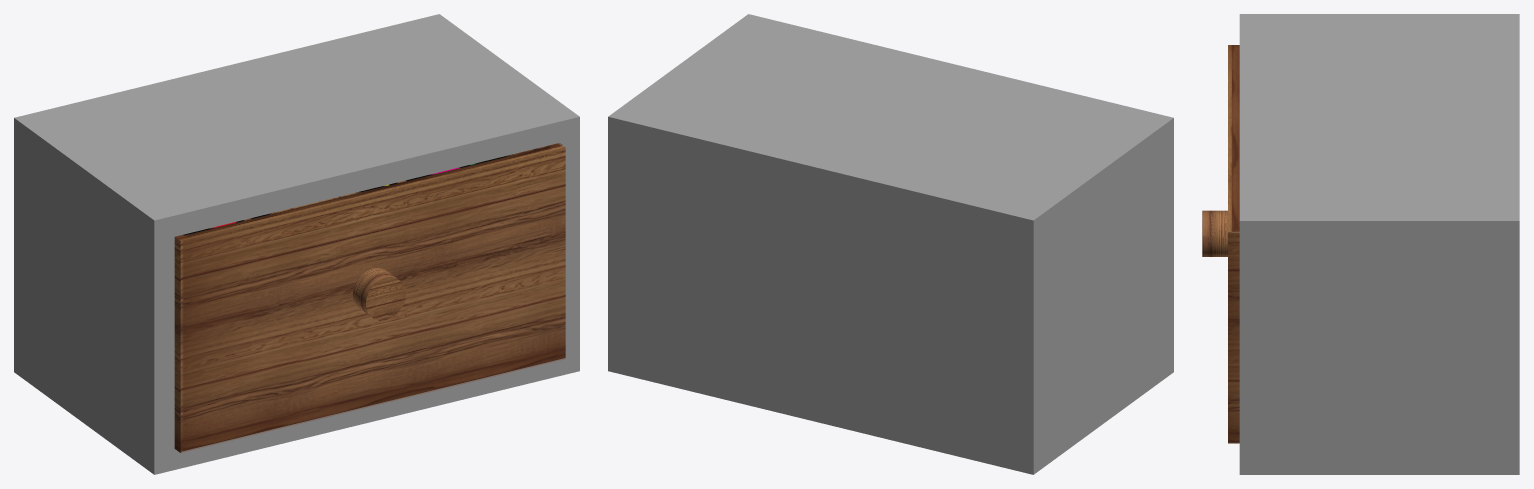
File: hikidasi_1dan (2).fbx
The picture shows the model from 3 angles, left to right: view 1: azimuth 30°, elevation 25°; view 2: azimuth 150°, elevation 25°; view 3: azimuth 270°, elevation 25°; orthographic projection.
Parts seen in each view (by area): view 1: pCube6, pCube5, pCube2, pCube1, pCube3, pCube4, pCylinder1; view 2: pCube4, pCube5, pCube2, pCube1, pCube3; view 3: pCube3, pCube5, pCube6, pCube4, pCube2, pCylinder1.
Boxes of the visible parts, x1,y1,x2,y2 form: pCube6: (174,143,565,452); pCube5: (24,16,568,238); pCube2: (14,113,174,474); pCube1: (164,360,559,472); pCube3: (424,14,579,375); pCube4: (25,17,439,119); pCylinder1: (352,268,405,320); pCube4: (618,111,1032,470); pCube5: (618,16,1163,238); pCube2: (1013,113,1173,474); pCube1: (618,354,1023,471); pCube3: (608,14,767,374); pCube3: (1239,211,1519,474); pCube5: (1239,19,1519,216); pCube6: (1228,45,1239,443); pCube4: (1496,19,1519,215); pCube2: (1239,14,1519,23); pCylinder1: (1202,210,1227,256).
Bounding box in the file's own units: 10.5 × 6 × 6.8.
3 materials, 2 textured.
